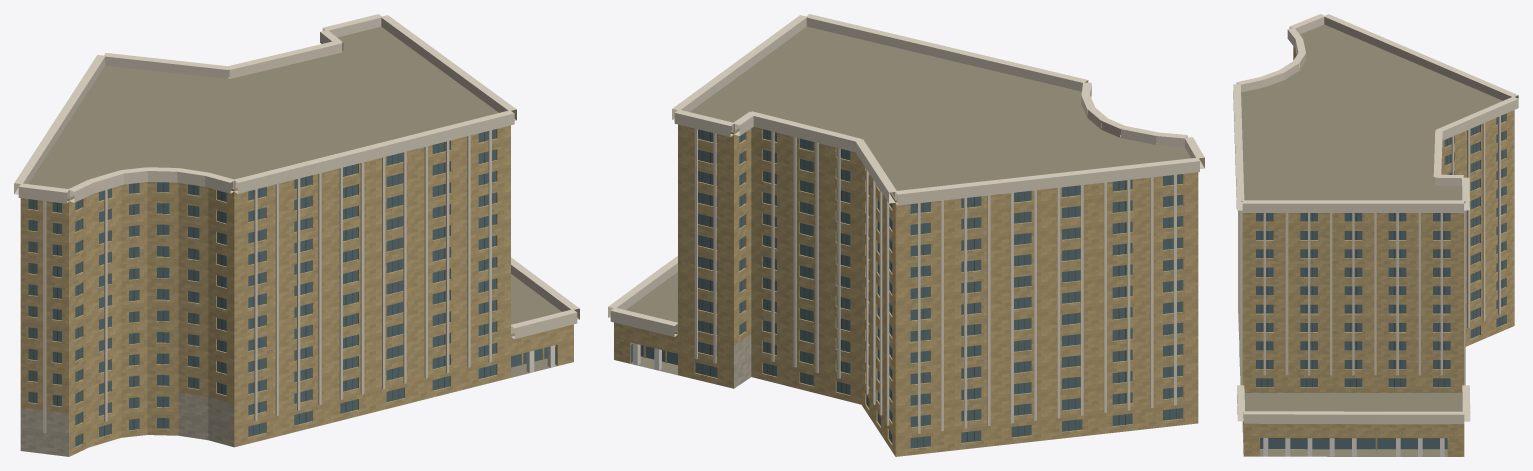
3 views of the same model, side by side, from view 1: azimuth 30°, elevation 25°; view 2: azimuth 150°, elevation 25°; view 3: azimuth 270°, elevation 25° (orthographic). The views are drawn at different scales.
Visible parts, largest first — view 1: koreanMed__wall, koreanMed__roof, koreanMed__trim, koreanMed__glass, koreanMed__base, koreanMed__frame; view 2: koreanMed__wall, koreanMed__roof, koreanMed__trim, koreanMed__glass, koreanMed__frame, koreanMed__base; view 3: koreanMed__wall, koreanMed__roof, koreanMed__trim, koreanMed__glass, koreanMed__frame, koreanMed__column.
Part boxes in pixels (x1,y1,x2,y2): koreanMed__wall: [20, 125, 573, 456]; koreanMed__roof: [22, 26, 573, 456]; koreanMed__trim: [14, 14, 579, 433]; koreanMed__glass: [28, 129, 556, 446]; koreanMed__base: [20, 393, 234, 456]; koreanMed__frame: [33, 132, 490, 445]; koreanMed__wall: [614, 124, 1198, 456]; koreanMed__roof: [616, 26, 1197, 456]; koreanMed__trim: [608, 14, 1204, 433]; koreanMed__glass: [631, 129, 1182, 448]; koreanMed__frame: [702, 130, 1176, 447]; koreanMed__base: [734, 334, 751, 388]; koreanMed__wall: [1242, 46, 1514, 456]; koreanMed__roof: [1241, 24, 1510, 456]; koreanMed__trim: [1233, 14, 1518, 424]; koreanMed__glass: [1256, 114, 1505, 449]; koreanMed__frame: [1260, 115, 1502, 438]; koreanMed__column: [1243, 425, 1444, 456].
Bounding box in the file's own units: 95.75 × 47.22 × 53.34.
8 materials, 2 textured.
